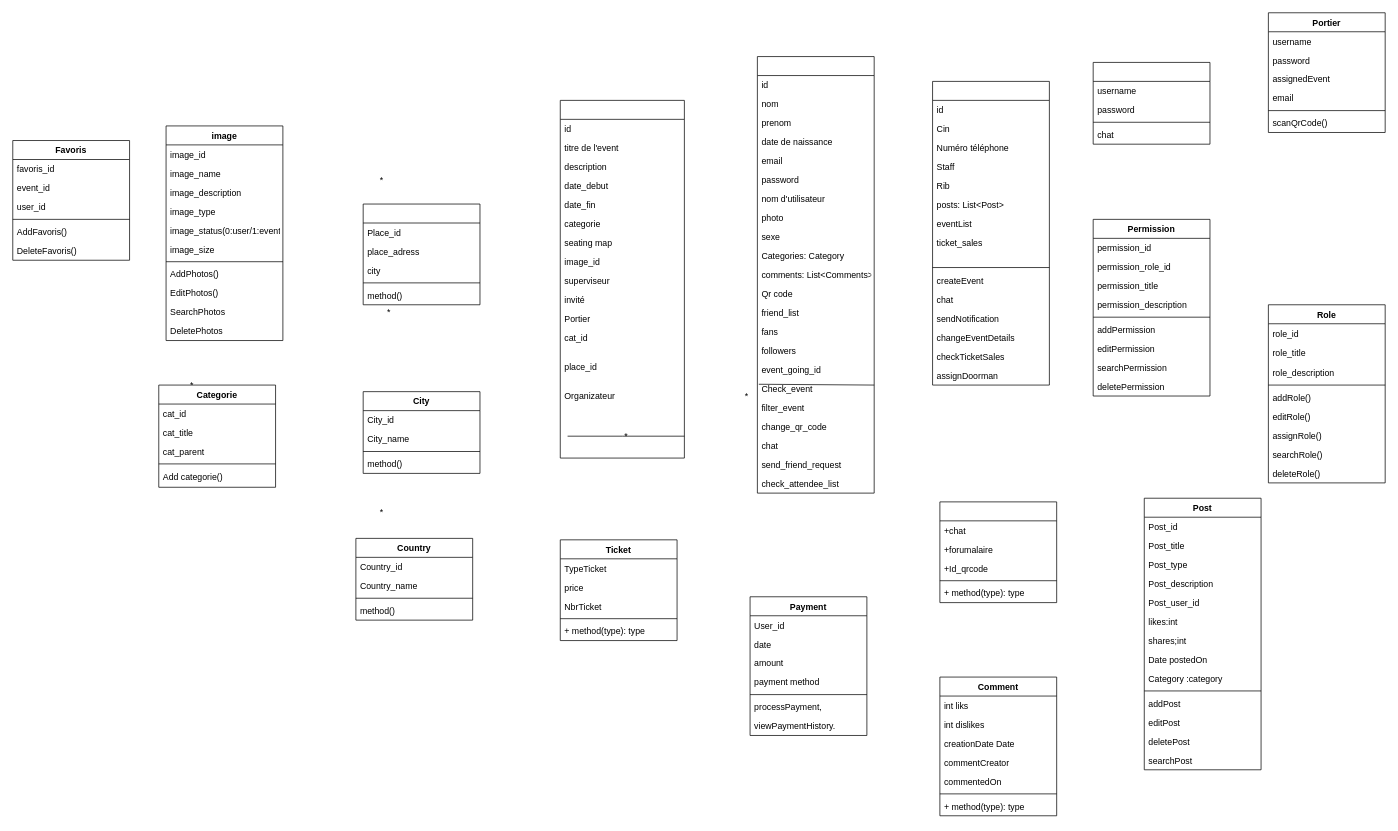
The diagram is 1398 pixels wide and 831 high, and some of its shapes have lost their labels. Each missing label, with the box of its shape:
Admin: (1092, 62, 1210, 144)
Client: (757, 56, 874, 493)
Evenement: (560, 100, 684, 458)
Organisateur: (932, 81, 1049, 385)
Places: (362, 203, 480, 305)
Reservation: (939, 501, 1057, 603)
